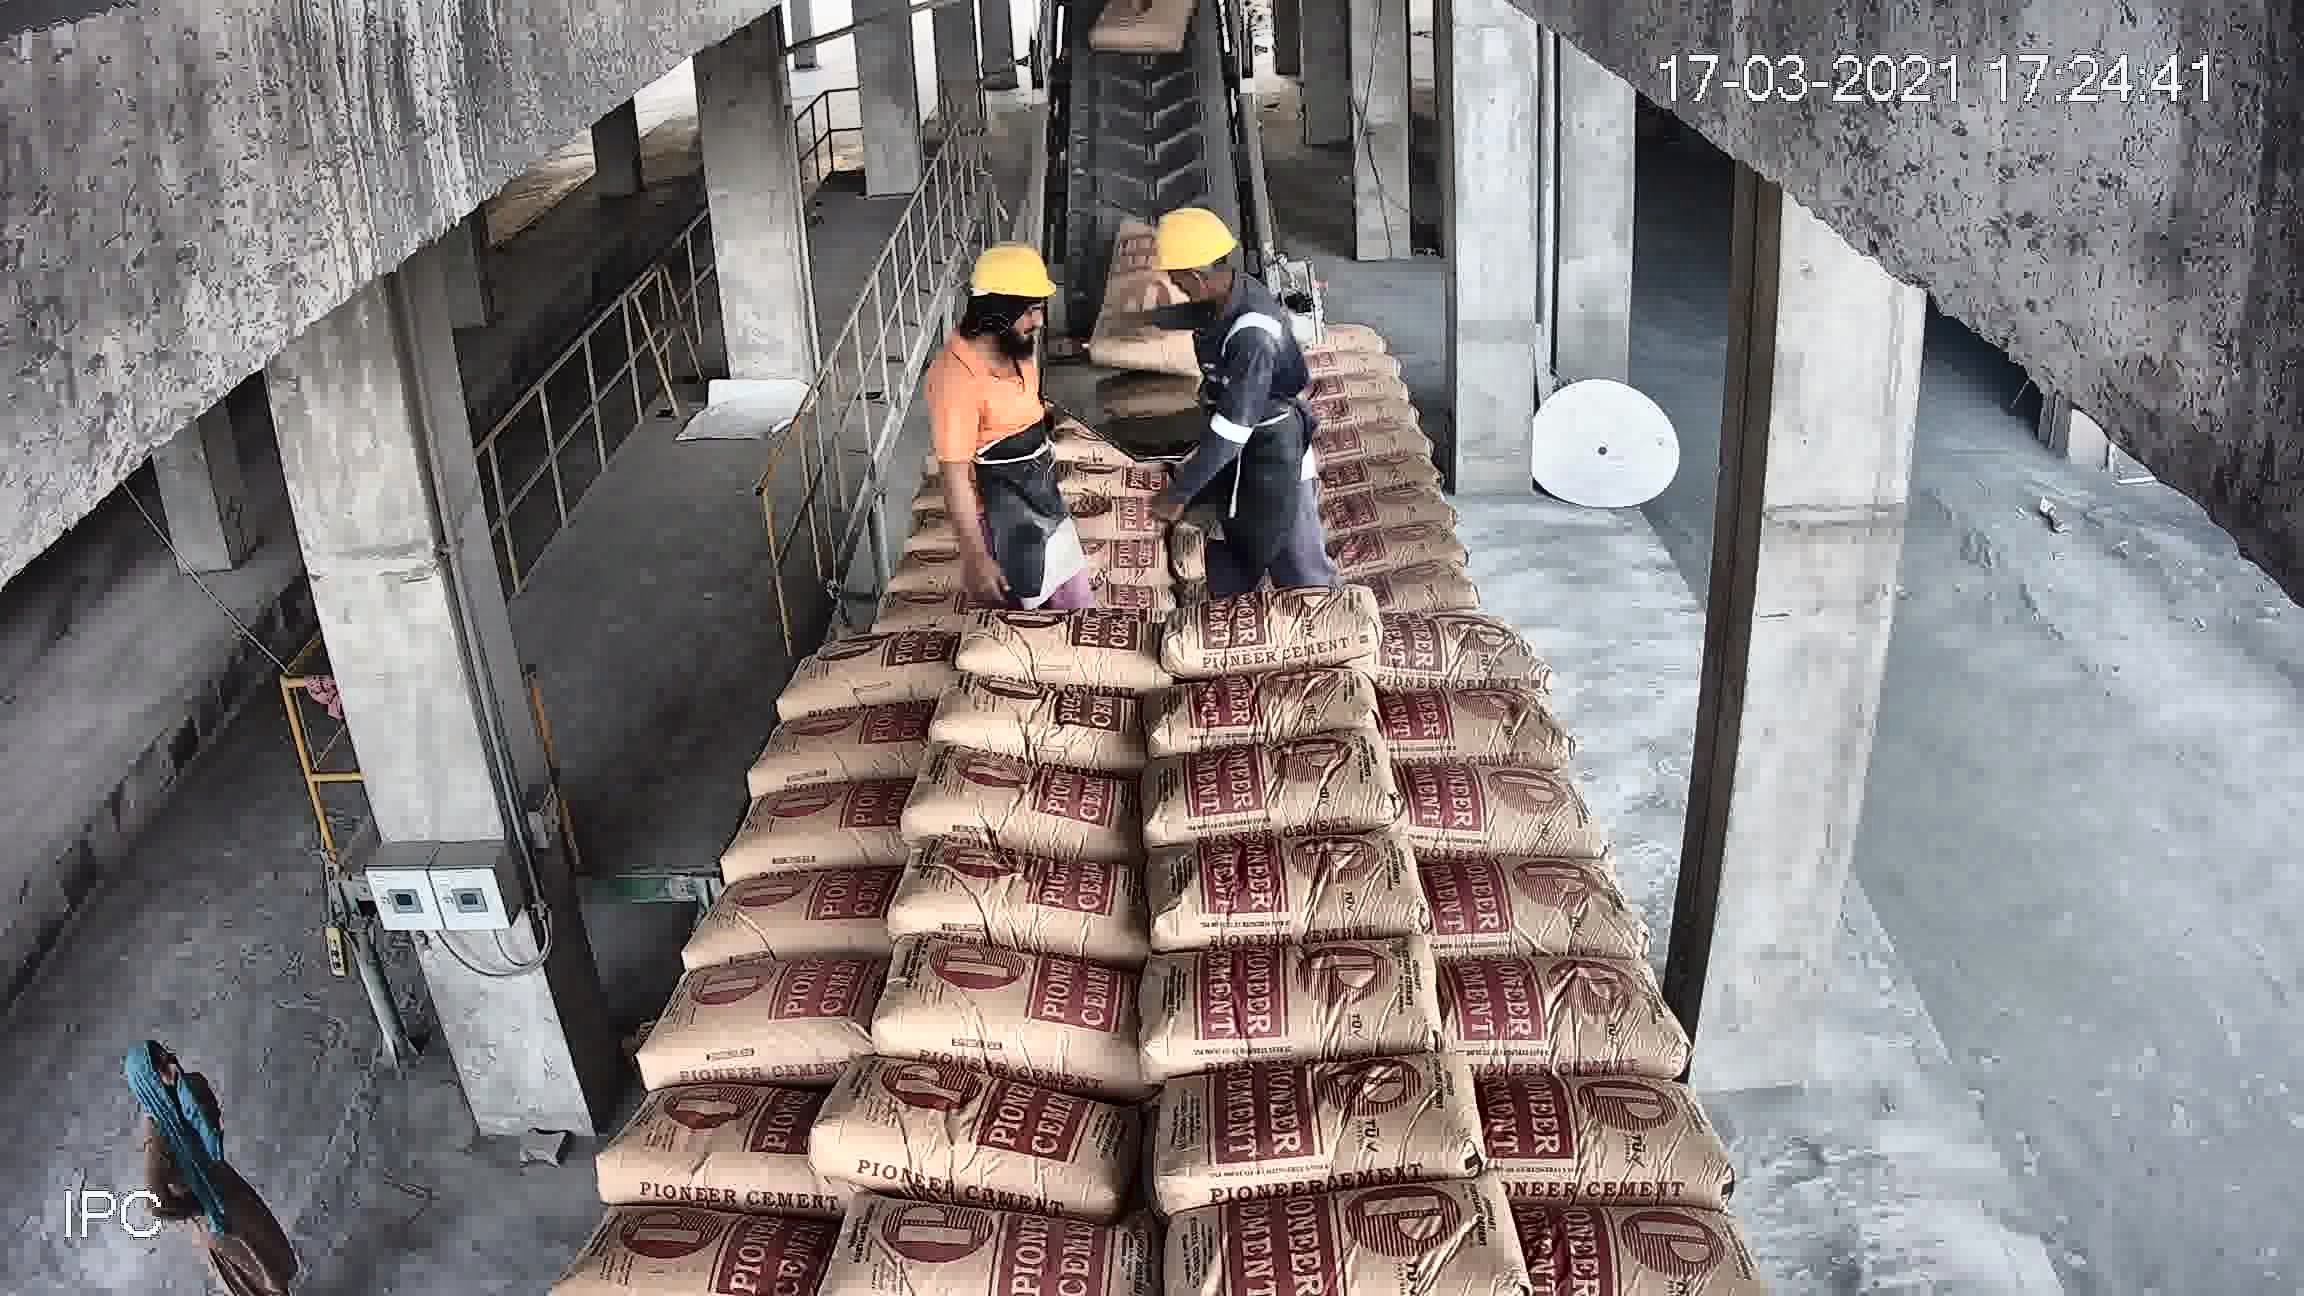bag: (1063, 36, 1266, 320), (1089, 250, 1207, 353), (1105, 25, 1196, 90)
bag_h: (790, 1052, 1152, 1207), (1119, 1184, 1533, 1296), (1161, 1048, 1483, 1176), (1139, 942, 1434, 1067), (878, 940, 1144, 1073), (649, 938, 866, 1084), (809, 1199, 1150, 1291), (592, 1065, 804, 1212), (1138, 842, 1423, 948), (1150, 722, 1397, 840), (885, 745, 1157, 850), (1437, 946, 1681, 1062), (900, 839, 1149, 949), (1494, 1074, 1722, 1192), (673, 870, 889, 987), (1141, 665, 1378, 766), (1418, 853, 1620, 965), (567, 1207, 831, 1291), (940, 669, 1171, 764), (1557, 1196, 1777, 1296), (1343, 661, 1554, 764), (1374, 755, 1586, 851), (953, 595, 1179, 684), (734, 779, 911, 885), (1166, 589, 1380, 669), (994, 494, 1173, 581), (758, 627, 937, 712), (1155, 392, 1347, 472), (1361, 616, 1548, 692), (1165, 487, 1336, 565), (1180, 524, 1358, 598), (764, 703, 911, 791), (1362, 551, 1513, 625), (783, 581, 951, 644), (984, 559, 1150, 622), (809, 525, 968, 590), (986, 426, 1150, 483), (989, 465, 1149, 524), (1185, 441, 1313, 511), (1336, 427, 1475, 484), (855, 446, 976, 511), (862, 481, 983, 544), (1336, 475, 1484, 524), (1351, 524, 1505, 568), (923, 394, 1014, 437)
